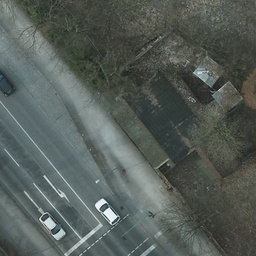car: (93, 198, 122, 227), (39, 212, 66, 242), (0, 68, 14, 96)
